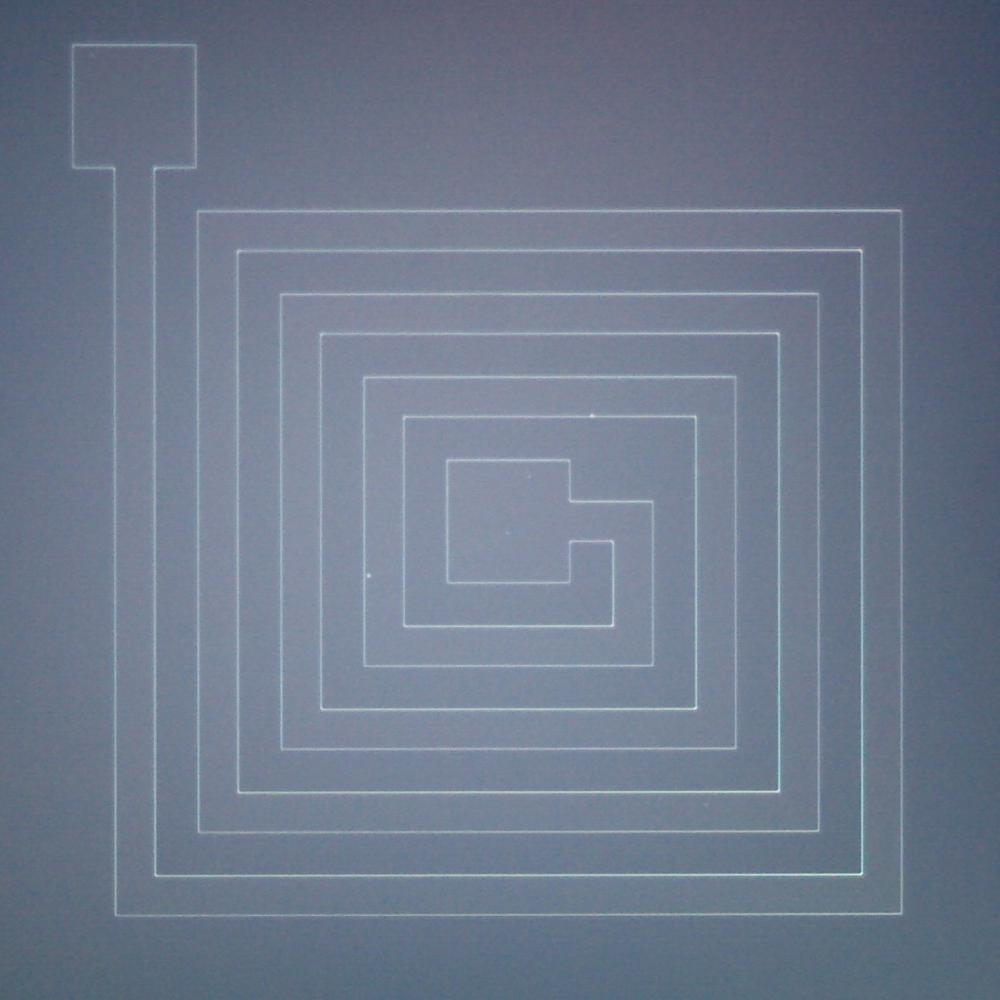dot: (703, 802, 709, 808), (505, 531, 509, 535), (367, 574, 371, 578), (590, 413, 593, 416), (528, 476, 531, 479)
